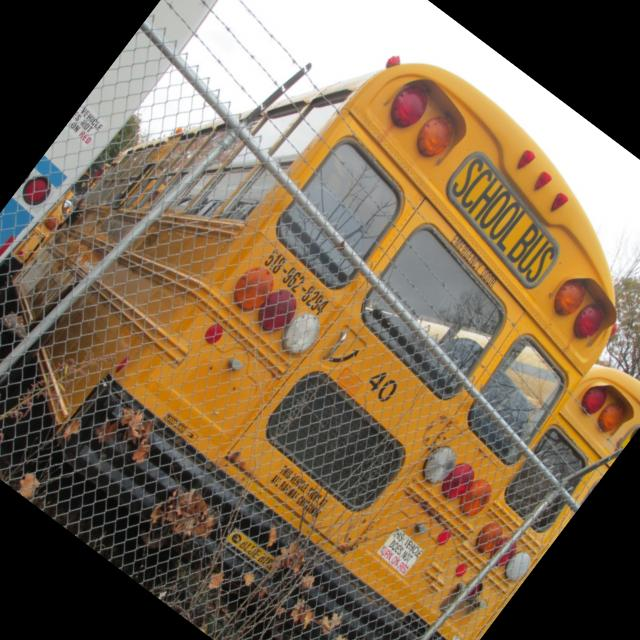bus: (0, 0, 640, 640), (207, 215, 640, 640), (0, 0, 294, 341), (0, 158, 103, 294)
